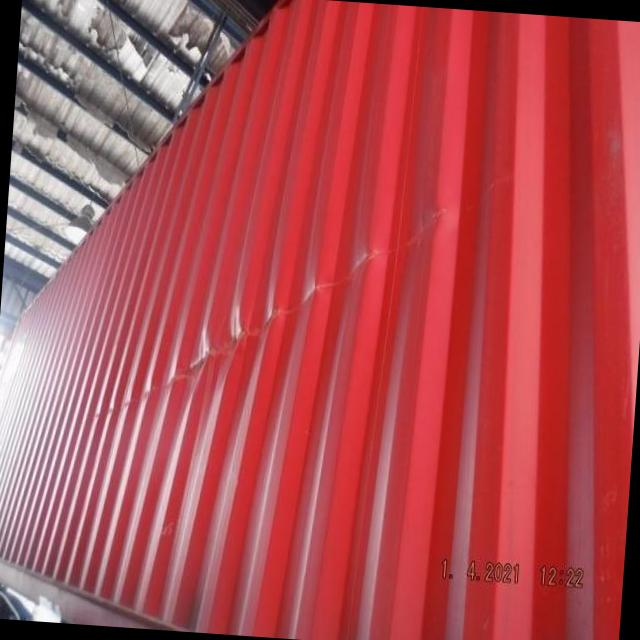Major Dent: (133, 215, 389, 432)
